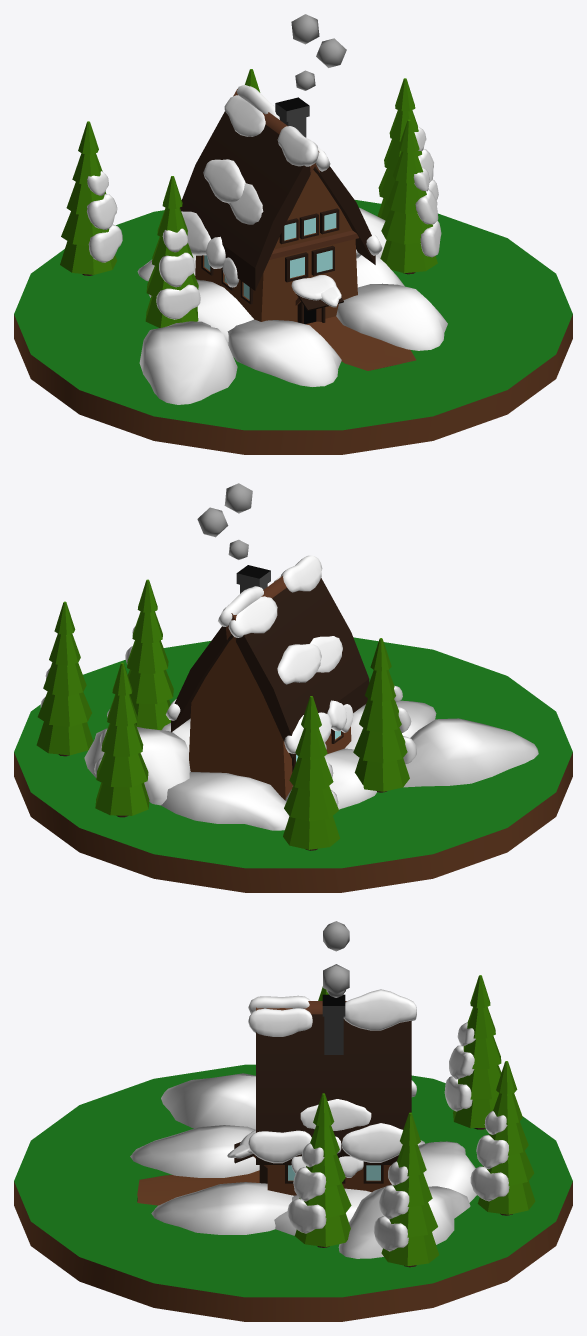
The model's file is chalet.glb.
The picture shows the model from 3 angles, top to bottom: view 1: azimuth 30°, elevation 25°; view 2: azimuth 150°, elevation 25°; view 3: azimuth 270°, elevation 25°; orthographic projection.
Visible parts, largest first — view 1: Box078, Box048; view 2: Box078, Box048; view 3: Box078, Box048.
Part boxes in pixels (left/top/right/bottom): Box078: left=14, top=69, right=572, bottom=454; Box048: left=180, top=14, right=382, bottom=324; Box078: left=14, top=579, right=572, bottom=892; Box048: left=166, top=483, right=369, bottom=799; Box078: left=14, top=975, right=572, bottom=1321; Box048: left=227, top=921, right=416, bottom=1195.
Bounding box in the file's own units: 111 × 66.72 × 112.
